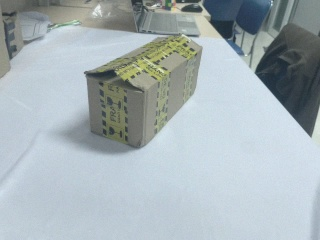box: (85, 35, 202, 147)
mouse: (181, 4, 203, 13)
